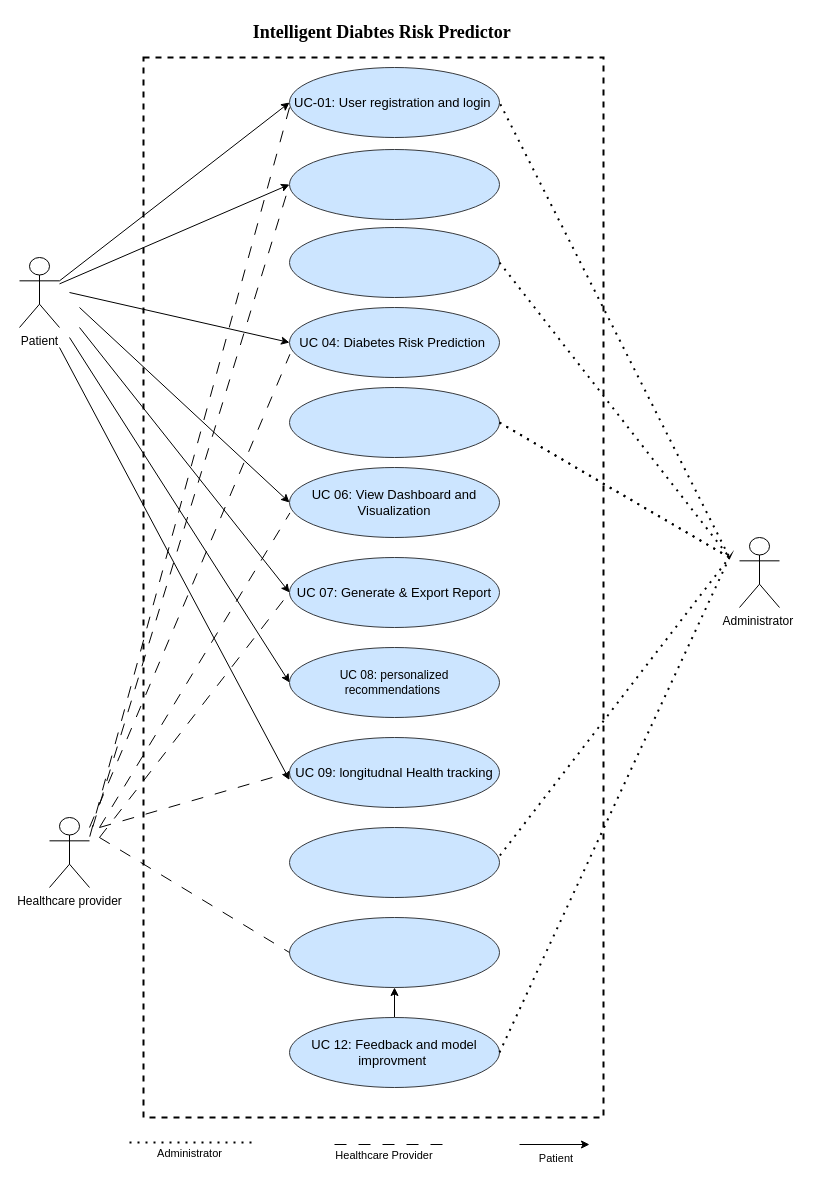
Image size: 814x1181. Some labels were removed from this diagram. Each missing label, with the centre of its shape:
"UC 02: Health data Input" goes at point 394,184.
"UC 03: dataset Import" goes at point 394,262.
"UC 05: Model Evaluation& COmparison" goes at point 394,422.
"UC 10:Admin and model management" goes at point 394,862.
"UC 11:Risk factor Analysis" goes at point 394,952.
